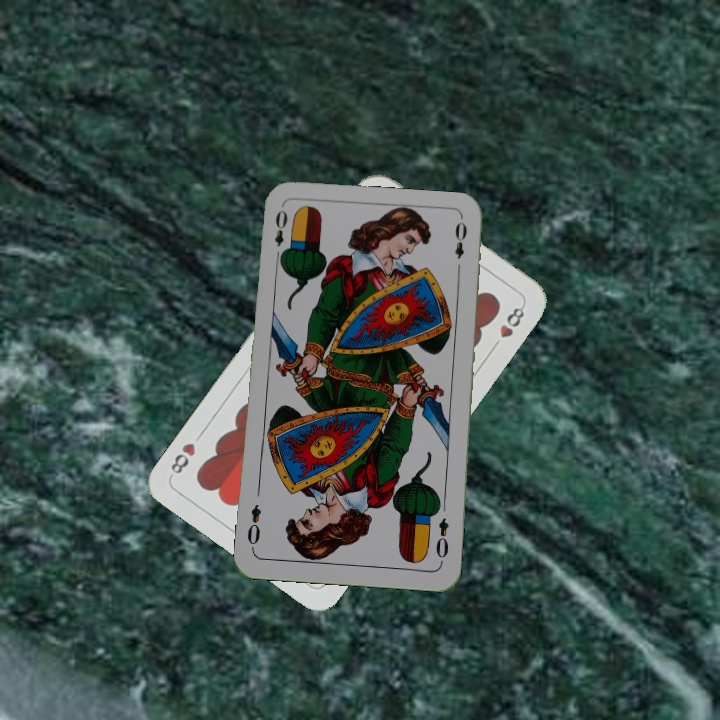EO: (270, 206, 290, 264), (431, 514, 451, 561)
